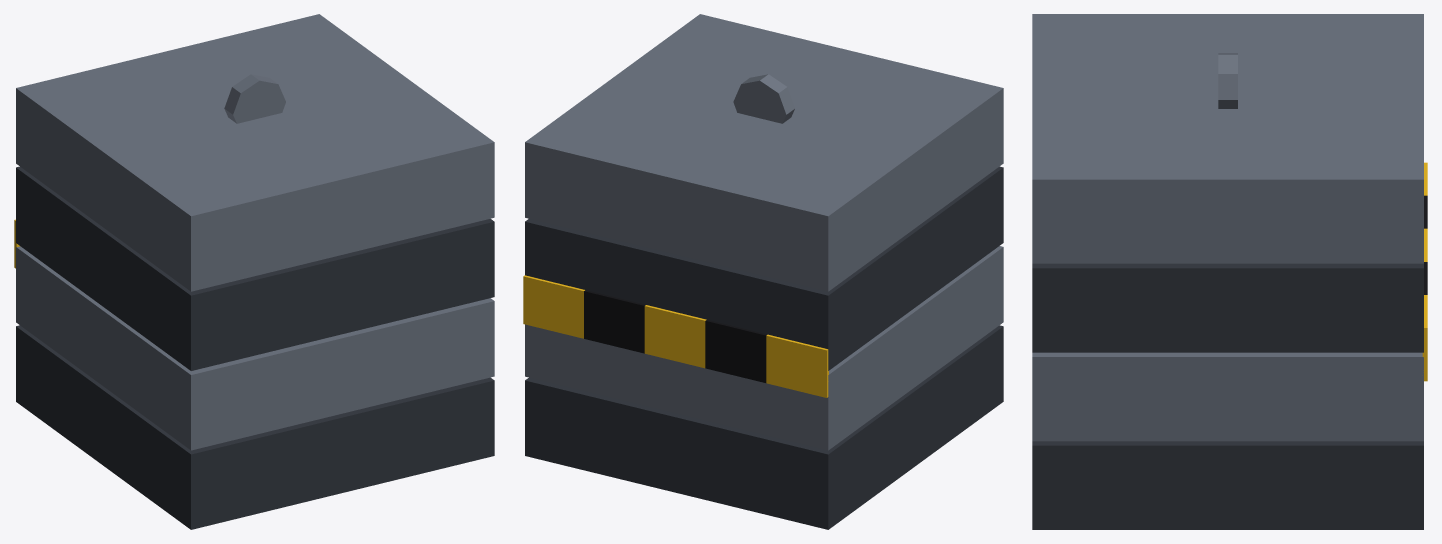
Rendered from prop_lift_counterweight.glb.
3 renders of one model, left to right at view 1: azimuth 30°, elevation 25°; view 2: azimuth 150°, elevation 25°; view 3: azimuth 270°, elevation 25°, orthographic. The views are drawn at different scales.
Visible parts, largest first — view 1: prop_lift_counterweight; view 2: prop_lift_counterweight; view 3: prop_lift_counterweight.
Boxes of the visible parts, x1,y1,x2,y2 form: prop_lift_counterweight: [14, 14, 494, 529]; prop_lift_counterweight: [523, 14, 1003, 529]; prop_lift_counterweight: [1032, 14, 1427, 529].
Bounding box in the file's own units: 0.8 × 0.885 × 0.807.
1 material, 1 textured.
